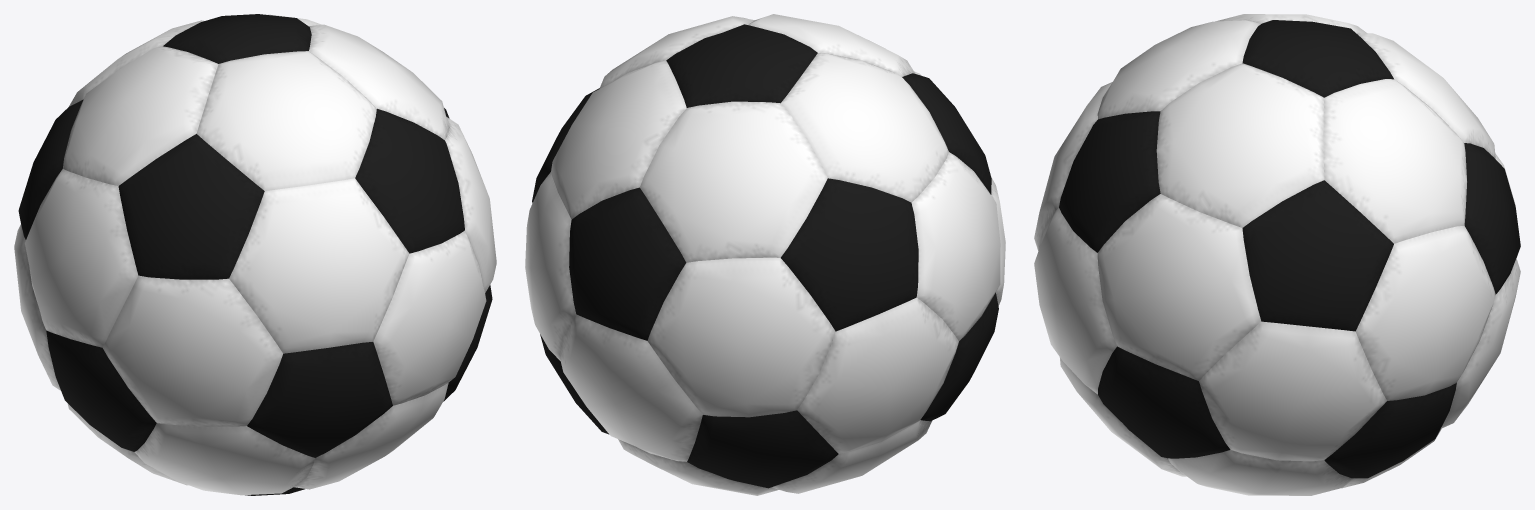
Rendered from Soccer.obj.
3 views of the same model, side by side, from view 1: azimuth 30°, elevation 25°; view 2: azimuth 150°, elevation 25°; view 3: azimuth 270°, elevation 25° (orthographic).
Bounding box in the file's own units: 1.99 × 2 × 2.
Materials: 1 (1 with a texture image).
